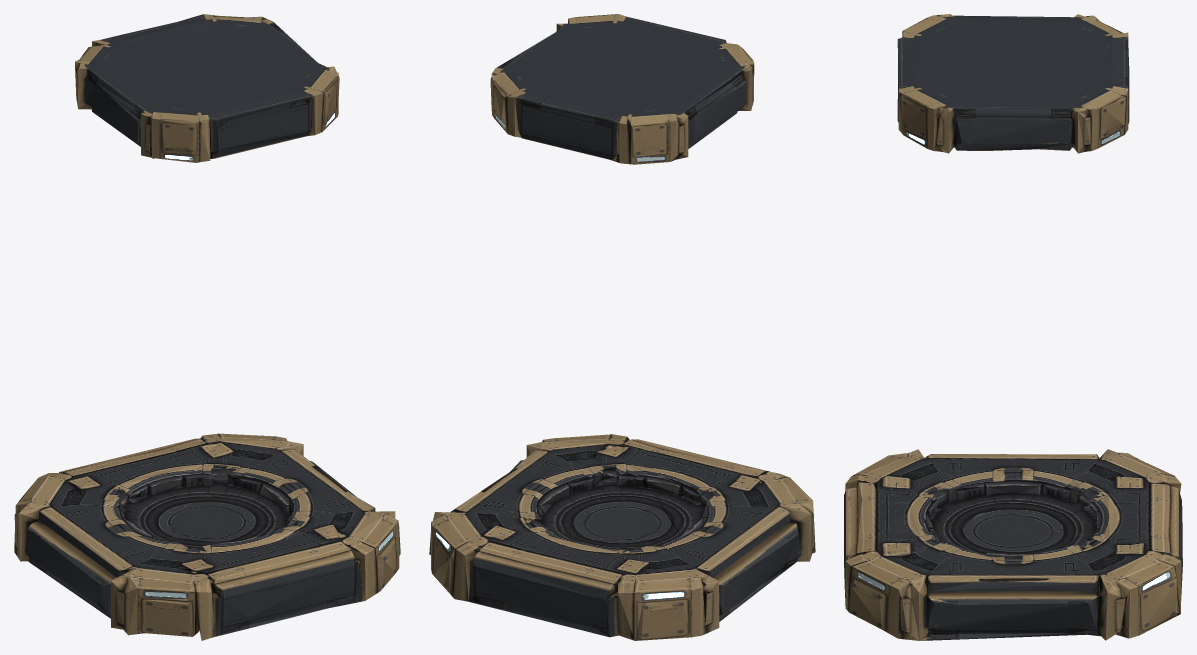
The model's file is reaktor-osnova.glb.
3 renders of one model, left to right at view 1: azimuth 30°, elevation 25°; view 2: azimuth 150°, elevation 25°; view 3: azimuth 270°, elevation 25°, orthographic. The views are drawn at different scales.
Visible parts, largest first — view 1: reaktor-osnova; view 2: reaktor-osnova; view 3: reaktor-osnova.
Boxes of the visible parts, x1,y1,x2,y2 form: reaktor-osnova: [14, 14, 400, 640]; reaktor-osnova: [429, 14, 815, 640]; reaktor-osnova: [844, 14, 1182, 640].
Size of the model in its own units: 1.9 by 3.15 by 1.9.
1 material, 1 textured.
